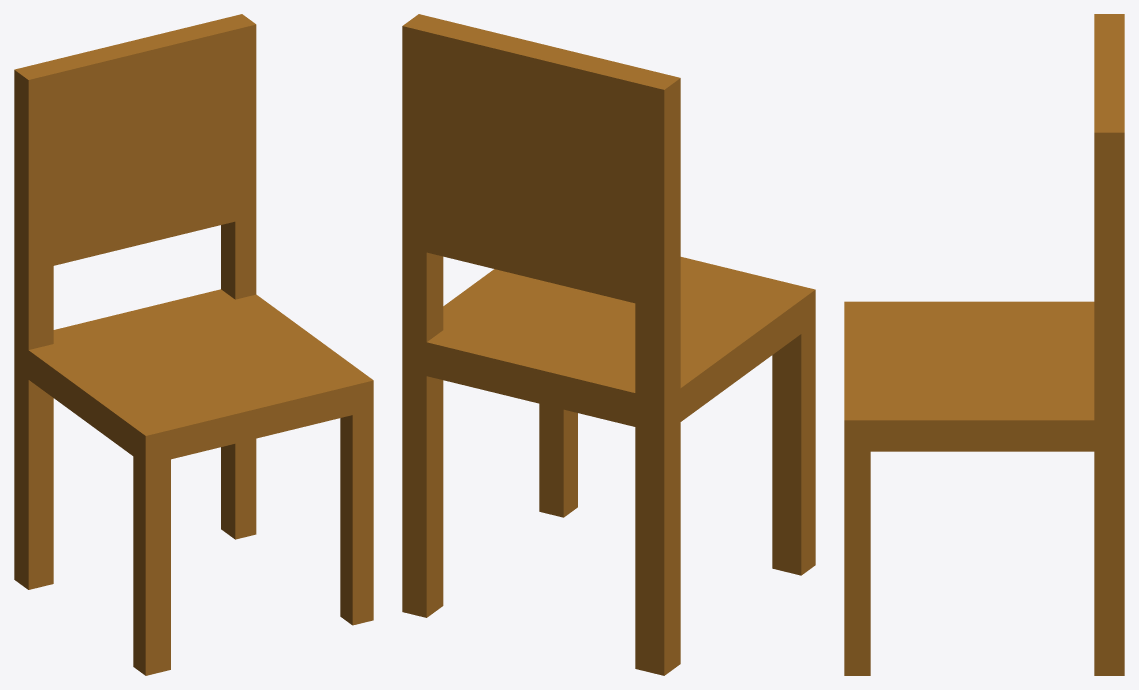
File: Cadeira.fbx
3 renders of one model, left to right at view 1: azimuth 30°, elevation 25°; view 2: azimuth 150°, elevation 25°; view 3: azimuth 270°, elevation 25°, orthographic. The views are drawn at different scales.
Parts seen in each view (by area): view 1: Plane; view 2: Plane; view 3: Plane.
Boxes of the visible parts, box(x1,y1,x2,y2) form: Plane: box(14, 14, 373, 675); Plane: box(402, 14, 815, 675); Plane: box(844, 14, 1124, 675).
Bounding box in the file's own units: 125 × 268 × 125.
1 material, 1 textured.
